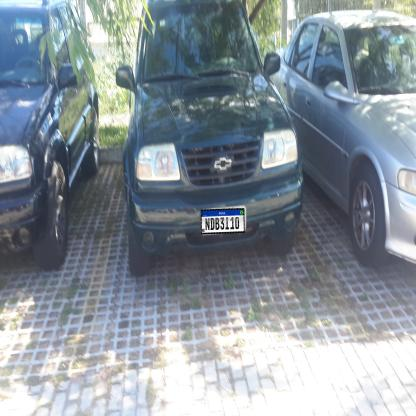PlacaM: (201, 209, 245, 235)
